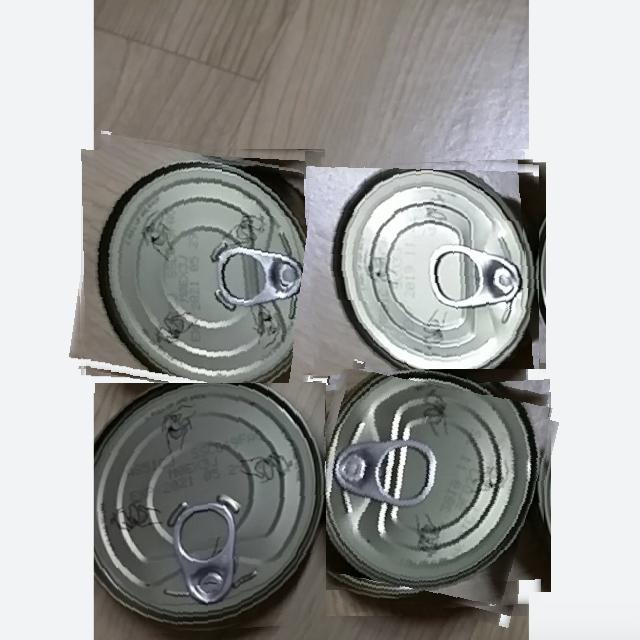recyclable: (76, 138, 330, 393), (303, 369, 551, 616), (95, 383, 326, 638), (305, 151, 539, 384)
